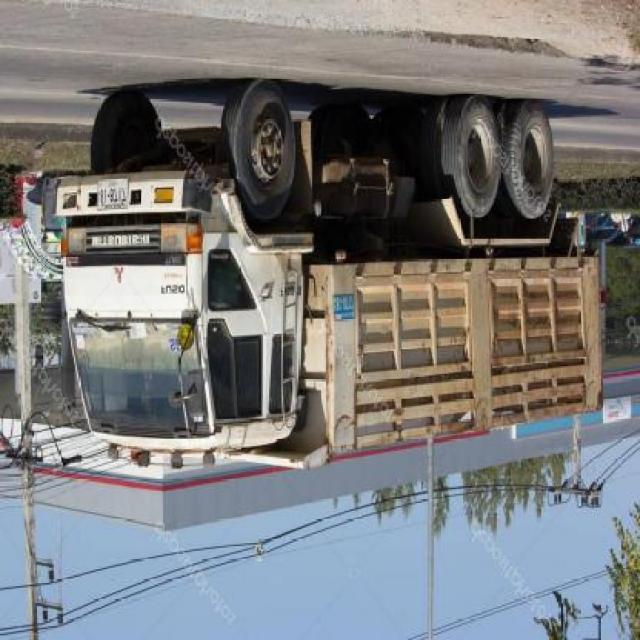truck: (52, 86, 599, 470)
